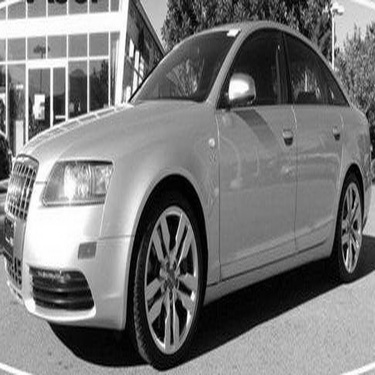car: (1, 16, 372, 365)
